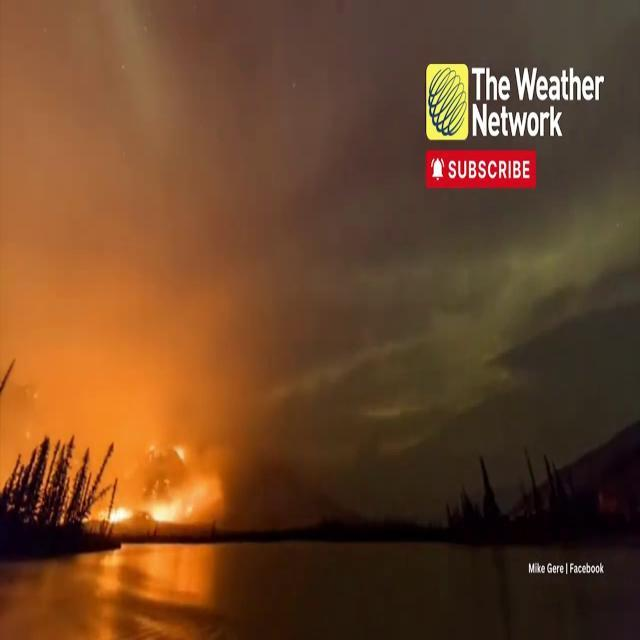Fire: (96, 432, 224, 538)
Smoke: (0, 1, 407, 436)
